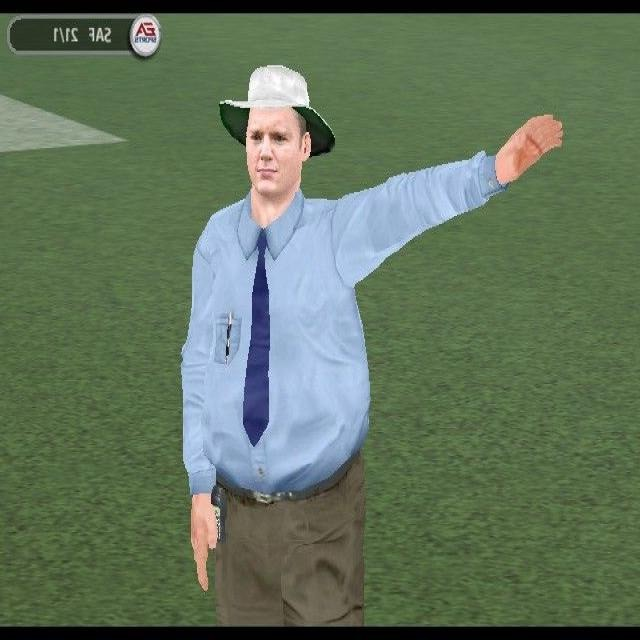No_Ball: (174, 56, 570, 640)
